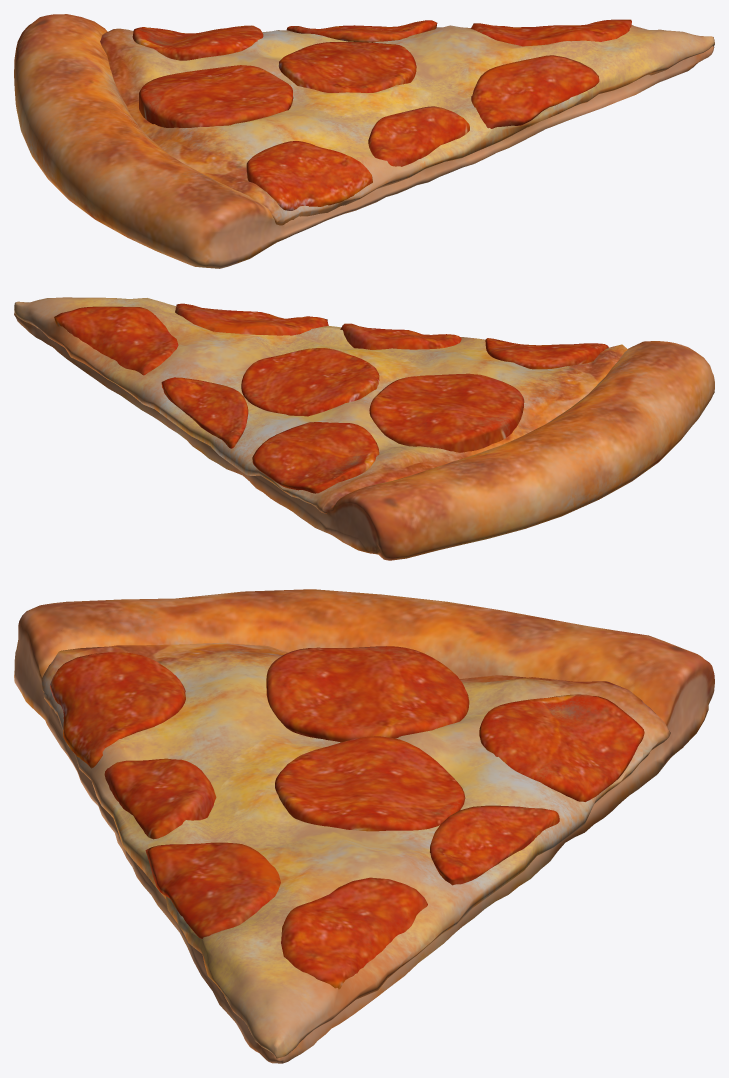
File: pizza.glb
3 renders of one model, top to bottom at view 1: azimuth 30°, elevation 25°; view 2: azimuth 150°, elevation 25°; view 3: azimuth 270°, elevation 25°, orthographic. The views are drawn at different scales.
Parts seen in each view (by area): view 1: slice_of_pizza.1; view 2: slice_of_pizza.1; view 3: slice_of_pizza.1.
Boxes of the visible parts, x1,y1,x2,y2 form: slice_of_pizza.1: (14,14,714,268); slice_of_pizza.1: (14,297,714,560); slice_of_pizza.1: (14,589,714,1063).
Size of the model in its own units: 0.0244 by 0.00234 by 0.017.
1 material, 1 textured.
